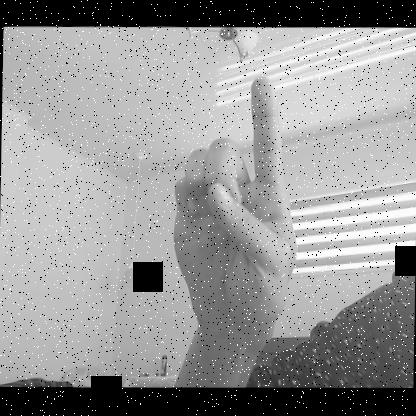D: (171, 74, 299, 335)
